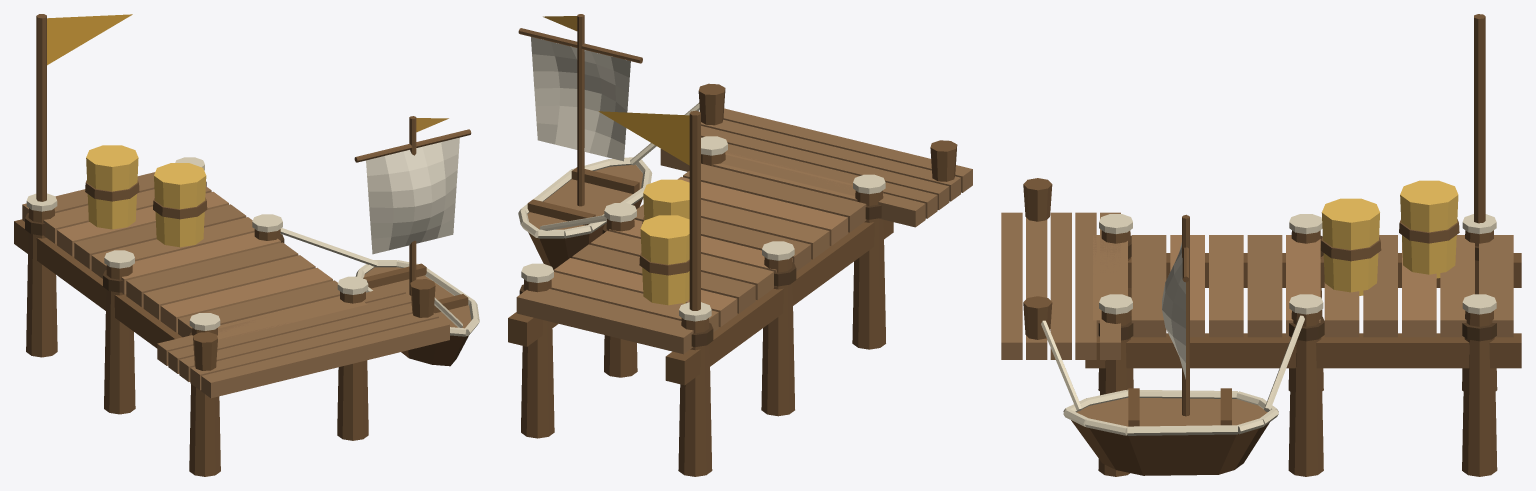
File: harbor-wheat.glb
The picture shows the model from 3 angles, left to right: view 1: azimuth 30°, elevation 25°; view 2: azimuth 150°, elevation 25°; view 3: azimuth 270°, elevation 25°; orthographic projection. The views are drawn at different scales.
Parts seen in each view (by area): view 1: harbor-wheat, harbor-wheat.003, harbor-wheat.008, harbor-wheat.001, harbor-wheat.002, harbor-wheat.010, harbor-wheat.004, harbor-wheat.011, harbor-wheat.006, harbor-wheat.005, harbor-wheat.007; view 2: harbor-wheat.003, harbor-wheat, harbor-wheat.008, harbor-wheat.001, harbor-wheat.002, harbor-wheat.004, harbor-wheat.010, harbor-wheat.011, harbor-wheat.005, harbor-wheat.006, harbor-wheat.007; view 3: harbor-wheat.003, harbor-wheat, harbor-wheat.001, harbor-wheat.010, harbor-wheat.004, harbor-wheat.002, harbor-wheat.007, harbor-wheat.006, harbor-wheat.008, harbor-wheat.005.
Part boxes in pixels (box(x1,y1,x2,y2)): harbor-wheat: box(22, 172, 471, 398); harbor-wheat.003: box(14, 14, 471, 476); harbor-wheat.008: box(366, 137, 459, 254); harbor-wheat.001: box(43, 186, 367, 339); harbor-wheat.002: box(57, 191, 332, 332); harbor-wheat.010: box(86, 145, 206, 247); harbor-wheat.004: box(26, 157, 479, 336); harbor-wheat.011: box(47, 14, 132, 65); harbor-wheat.006: box(401, 335, 464, 366); harbor-wheat.005: box(25, 181, 284, 335); harbor-wheat.007: box(408, 336, 468, 365); harbor-wheat.003: box(508, 14, 957, 476); harbor-wheat: box(516, 108, 972, 354); harbor-wheat.008: box(531, 37, 630, 161); harbor-wheat.001: box(551, 152, 883, 332); harbor-wheat.002: box(553, 177, 847, 326); harbor-wheat.004: box(518, 102, 885, 321); harbor-wheat.010: box(640, 179, 689, 305); harbor-wheat.011: box(598, 111, 689, 165); harbor-wheat.005: box(519, 204, 881, 347); harbor-wheat.006: box(540, 198, 642, 269); harbor-wheat.007: box(528, 232, 589, 266); harbor-wheat.003: box(1023, 14, 1521, 476); harbor-wheat: box(1001, 212, 1513, 426); harbor-wheat.001: box(1093, 235, 1474, 337); harbor-wheat.010: box(1321, 180, 1458, 295); harbor-wheat.004: box(1041, 214, 1496, 435); harbor-wheat.002: box(1170, 235, 1436, 337); harbor-wheat.007: box(1071, 420, 1269, 475); harbor-wheat.006: box(1089, 428, 1258, 475); harbor-wheat.008: box(1162, 242, 1185, 379); harbor-wheat.005: box(1098, 236, 1496, 341).
Bounding box in the file's own units: 0.7868 × 0.735 × 0.93.
